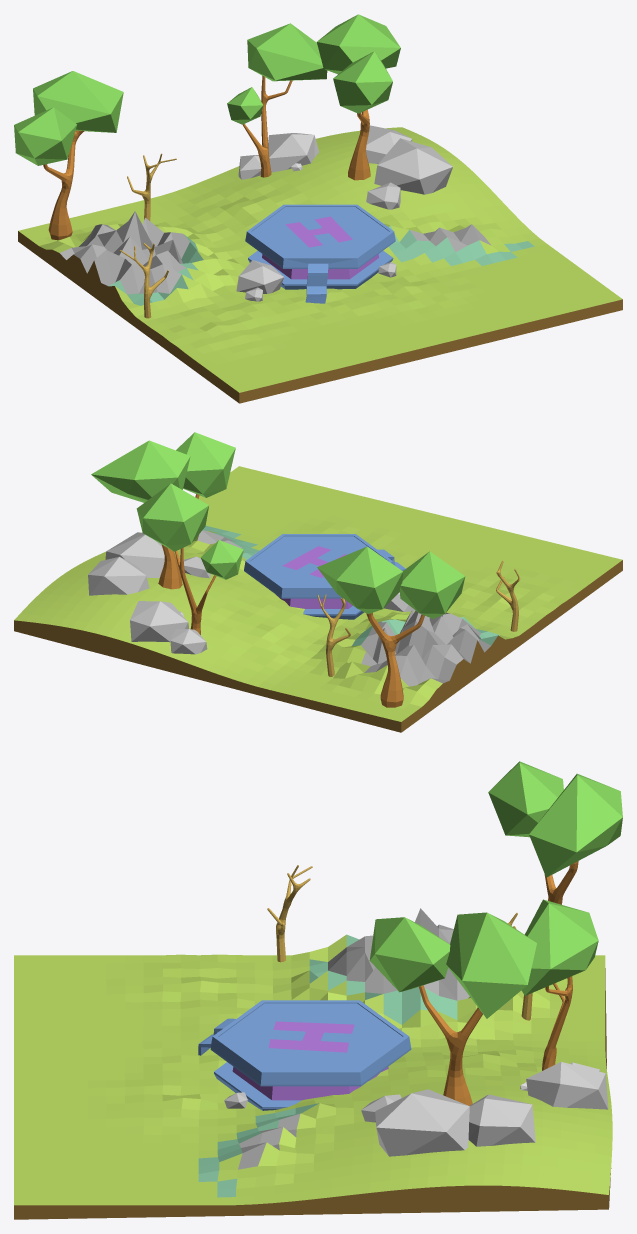
The model's file is garden2.glb.
3 renders of one model, top to bottom at view 1: azimuth 30°, elevation 25°; view 2: azimuth 150°, elevation 25°; view 3: azimuth 270°, elevation 25°, orthographic. The views are drawn at different scales.
Visible parts, largest first — view 1: Плоскость, Окружность, Икосфера.007, Икосфера.008, Икосфера.009, Икосфера.003, Икосфера.005, Икосфера.011, Икосфера.004, Плоскость.002, Икосфера.010, Икосфера.001 (+2 smaller); view 2: Плоскость, Икосфера.007, Икосфера.008, Окружность, Икосфера.009, Икосфера.005, Икосфера.004, Икосфера.003, Икосфера.010, Икосфера.006, Плоскость.002, Плоскость.003 (+1 smaller); view 3: Плоскость, Окружность, Икосфера.008, Икосфера.007, Икосфера.003, Икосфера.009, Икосфера.005, Икосфера.004, Плоскость.002, Плоскость.001.
Boxes of the visible parts, box(x1,y1,x2,y2) form: Плоскость: box(18, 127, 622, 403); Окружность: box(245, 204, 395, 303); Икосфера.007: box(14, 71, 123, 240); Икосфера.008: box(317, 14, 400, 180); Икосфера.009: box(247, 23, 327, 81); Икосфера.003: box(374, 138, 452, 194); Икосфера.005: box(268, 133, 319, 172); Икосфера.011: box(236, 260, 283, 293); Икосфера.004: box(366, 125, 412, 163); Плоскость.002: box(243, 75, 292, 177); Икосфера.010: box(227, 87, 263, 124); Икосфера.001: box(366, 182, 400, 209); Плоскость: box(14, 466, 622, 732); Икосфера.007: box(317, 546, 465, 707); Икосфера.008: box(91, 432, 235, 589); Окружность: box(244, 534, 405, 619); Икосфера.009: box(136, 483, 208, 551); Икосфера.005: box(130, 601, 189, 642); Икосфера.004: box(88, 557, 149, 595); Икосфера.003: box(105, 532, 164, 577); Икосфера.010: box(200, 540, 243, 579); Икосфера.006: box(170, 629, 207, 654); Плоскость.002: box(175, 547, 216, 634); Плоскость.003: box(317, 594, 350, 676); Плоскость: box(14, 908, 612, 1219); Окружность: box(198, 1000, 411, 1110); Икосфера.008: box(369, 912, 536, 1105); Икосфера.007: box(488, 761, 622, 904); Икосфера.003: box(375, 1089, 469, 1156); Икосфера.009: box(521, 899, 598, 995); Икосфера.005: box(526, 1062, 608, 1109); Икосфера.004: box(468, 1094, 535, 1146); Плоскость.002: box(542, 976, 572, 1070); Плоскость.001: box(267, 865, 312, 962).
Bounding box in the file's own units: 21.4 × 9.15 × 20.17.
1 material, 1 textured.
